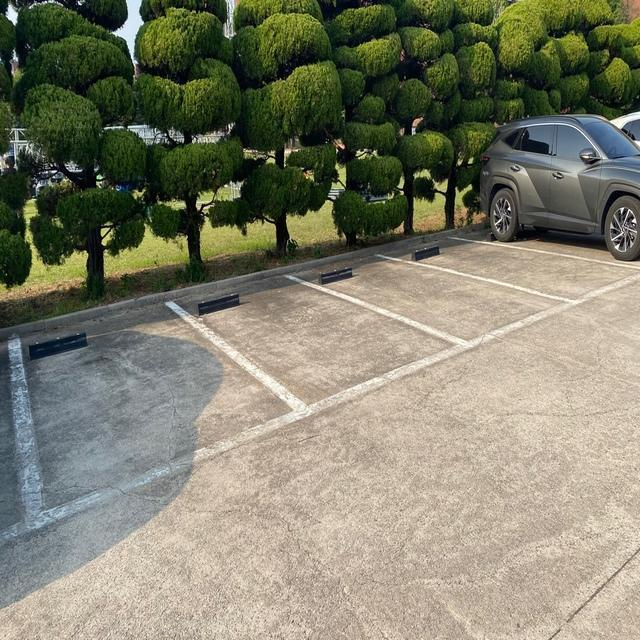Vacant: (20, 326, 229, 443), (216, 293, 411, 367), (334, 260, 518, 310), (428, 237, 604, 278)
